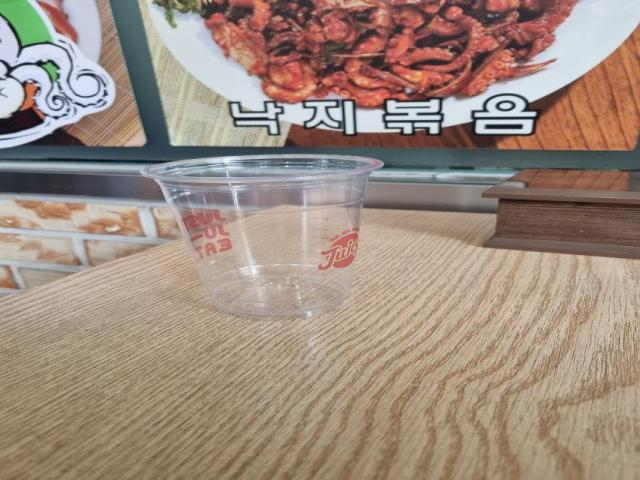cup: (134, 152, 388, 330)
